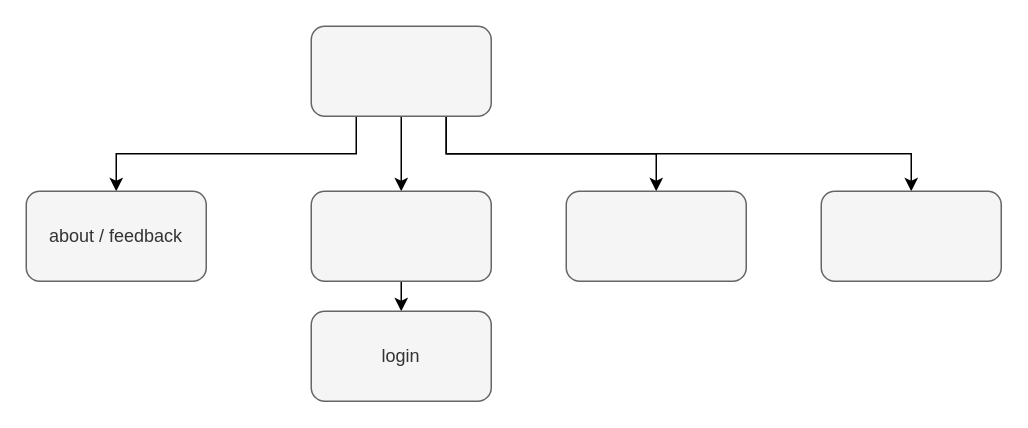
Some shapes in this 1028 by 428 pixel diagram are drawn without their labels. The shapes that lost their labels are listed below. From the top down, each one's centre as x and y in pixels, then its label:
the point at 400,70: main
the point at 400,235: sign up
